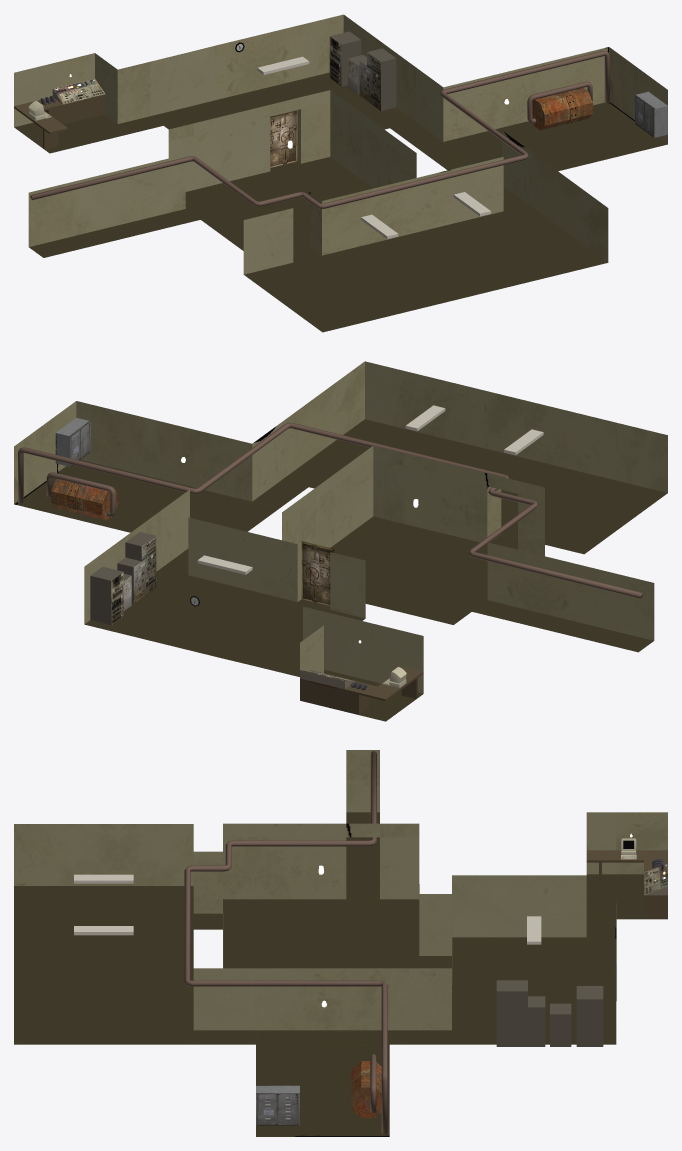
3 views of the same model, one above another, from view 1: azimuth 30°, elevation 25°; view 2: azimuth 150°, elevation 25°; view 3: azimuth 270°, elevation 25° (orthographic). The views are drawn at different scales.
Parts seen in each view (by area): view 1: Rooms, Pipe1, Devices, Desk, Boiler, DoorBack, ElectricalPanel, Cube; view 2: Rooms, Pipe1, Devices, Desk, Boiler, DoorFront, ElectricalPanel, Cube; view 3: Rooms, Devices, Pipe1, ElectricalPanel, Desk, Boiler, Cube, FluorescentLight2, FluorescentLight3.
Part boxes in pixels (bbox=[...]): Rooms: bbox=[14, 14, 667, 332]; Pipe1: bbox=[30, 50, 609, 208]; Devices: bbox=[329, 31, 396, 110]; Desk: bbox=[14, 94, 105, 149]; Boiler: bbox=[532, 88, 592, 130]; DoorBack: bbox=[270, 110, 297, 167]; ElectricalPanel: bbox=[635, 91, 667, 137]; Cube: bbox=[52, 78, 105, 104]; Rooms: bbox=[14, 361, 667, 721]; Pipe1: bbox=[18, 422, 642, 598]; Devices: bbox=[90, 532, 156, 625]; Desk: bbox=[300, 667, 423, 714]; Boiler: bbox=[51, 479, 118, 520]; DoorFront: bbox=[301, 541, 334, 605]; ElectricalPanel: bbox=[55, 418, 90, 466]; Cube: bbox=[300, 670, 355, 689]; Rooms: bbox=[14, 750, 667, 1136]; Devices: bbox=[496, 980, 603, 1046]; Pipe1: bbox=[184, 751, 387, 1134]; ElectricalPanel: bbox=[256, 1085, 299, 1125]; Desk: bbox=[586, 850, 667, 919]; Boiler: bbox=[351, 1061, 381, 1118]; Cube: bbox=[644, 863, 667, 895]; FluorescentLight2: bbox=[74, 926, 133, 935]; FluorescentLight3: bbox=[74, 874, 133, 883].
Size of the model in its own units: 25.23 by 2.78 by 21.47.
Materials: 16 (8 with a texture image).
